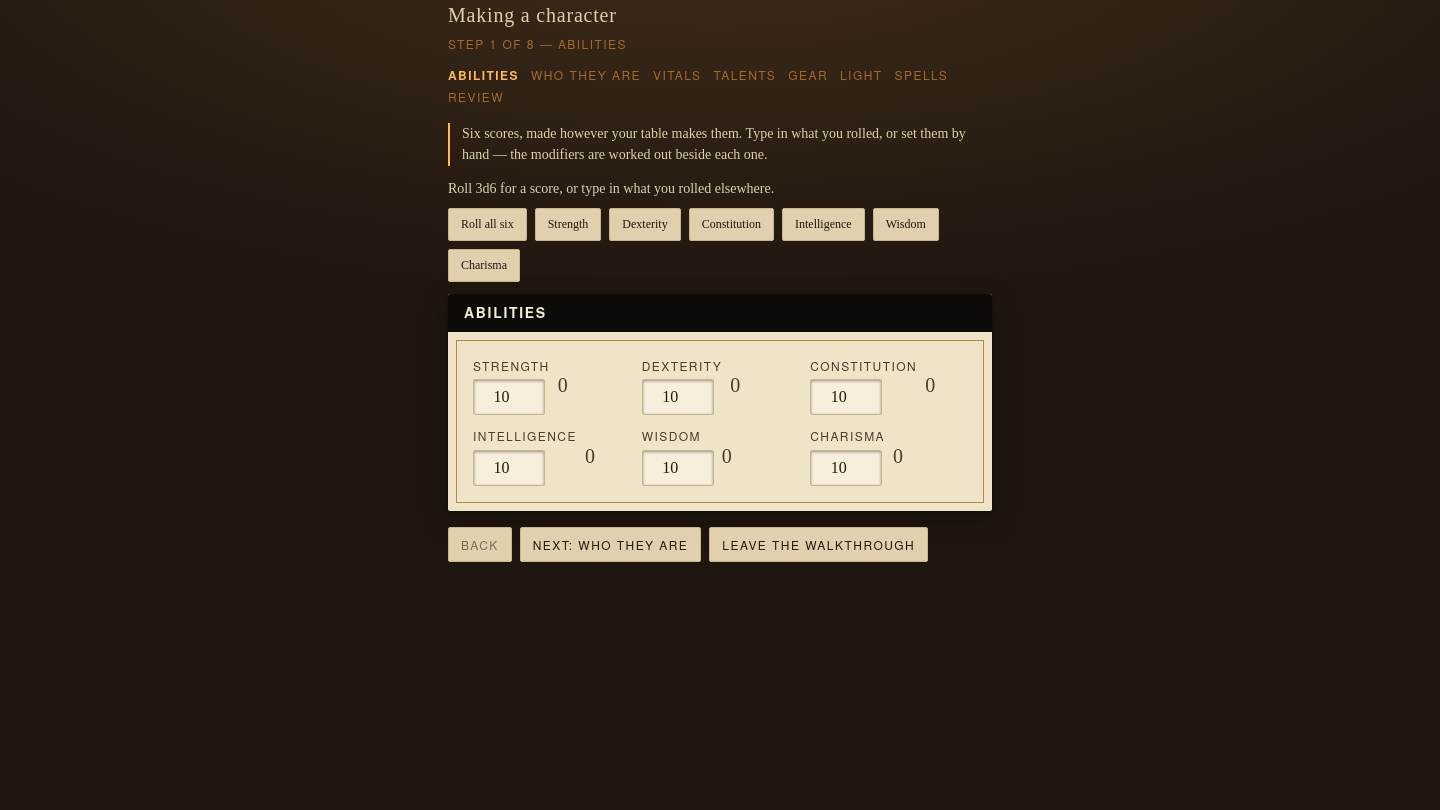
going back › offers every step in the list, and goes straight to the one pressed
Step 1. Click the button "Gear" → point(808, 75), box [788,66,828,84]
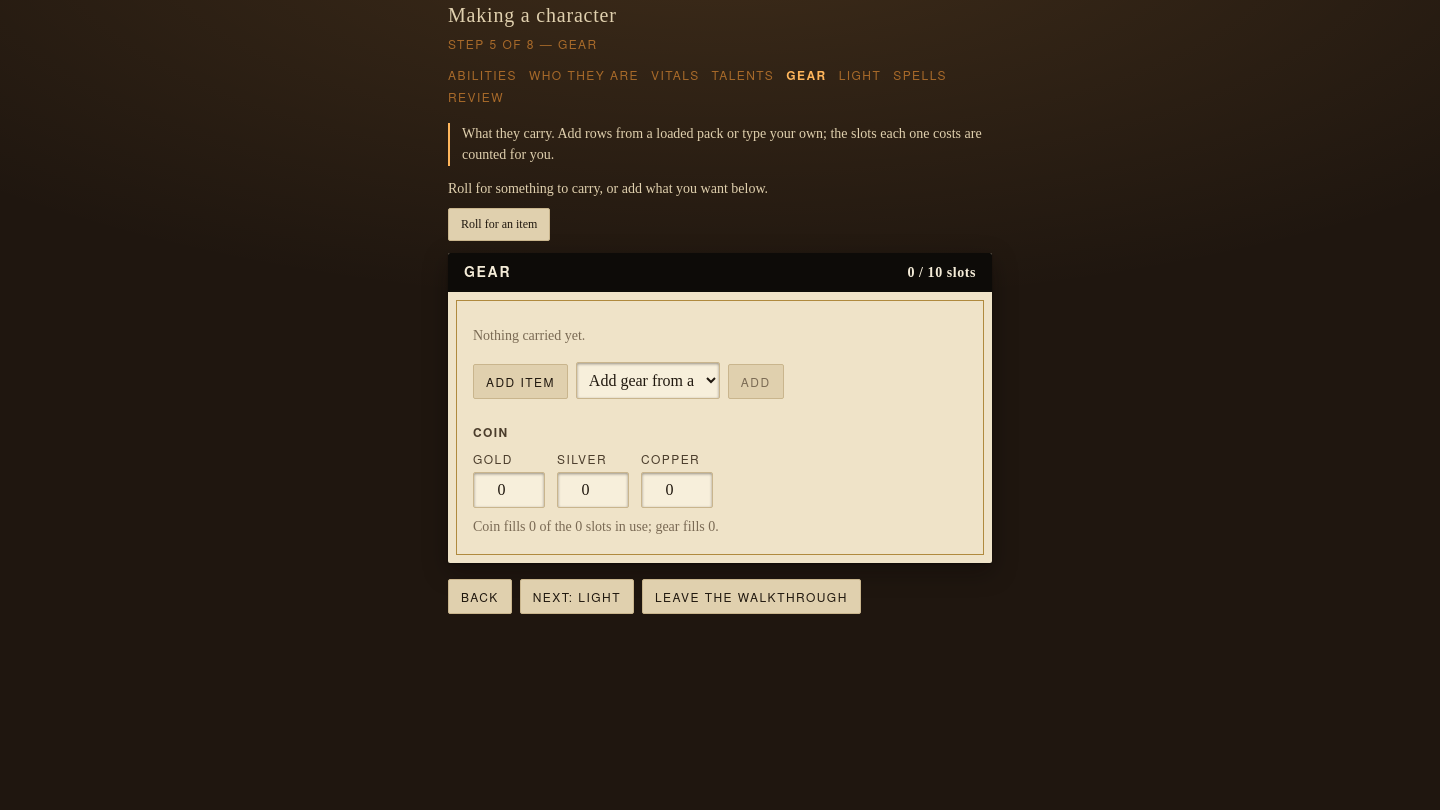
Now the text with class "walkthrough__position" shows "Step 5 of 8", box [448,35,598,52]
Step 2. Click the button "Abilities" → point(482, 75), box [448,66,517,84]
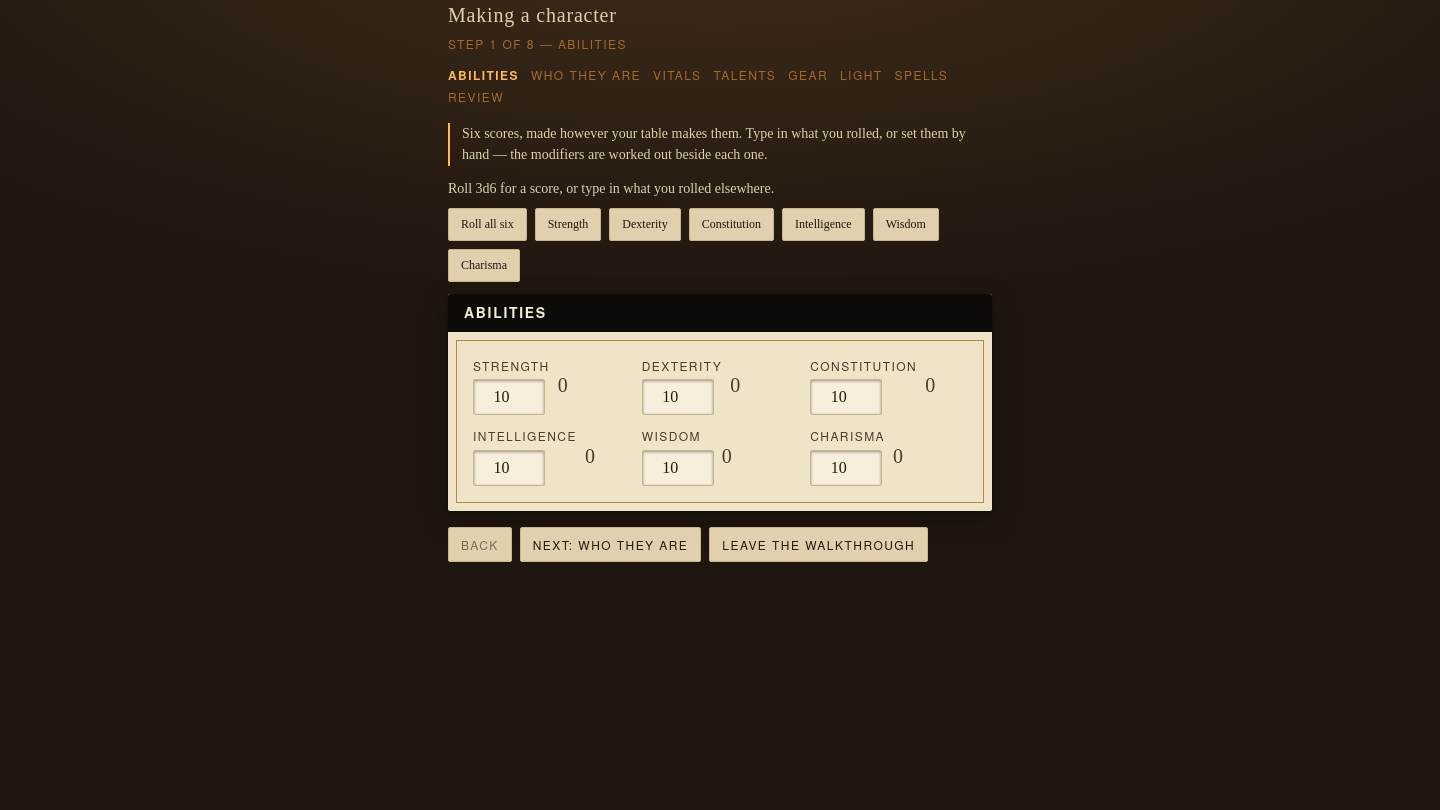
Now the text with class "walkthrough__position" shows "Step 1 of 8", box [448,35,627,52]
